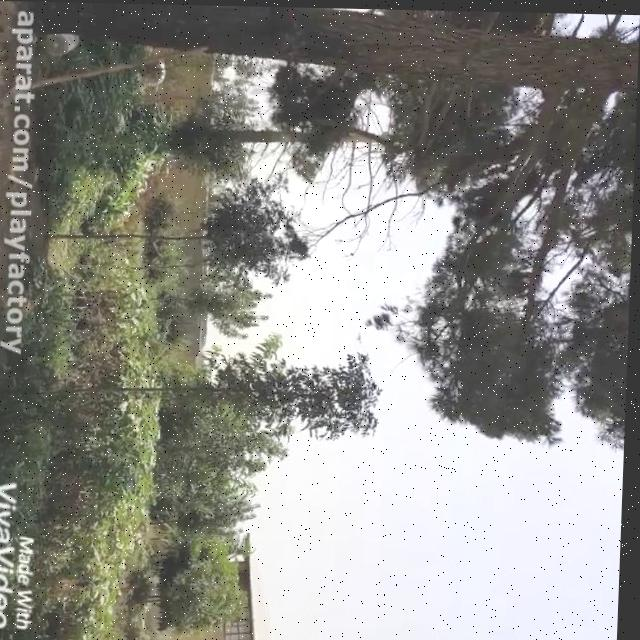drone: (359, 328, 370, 341)
